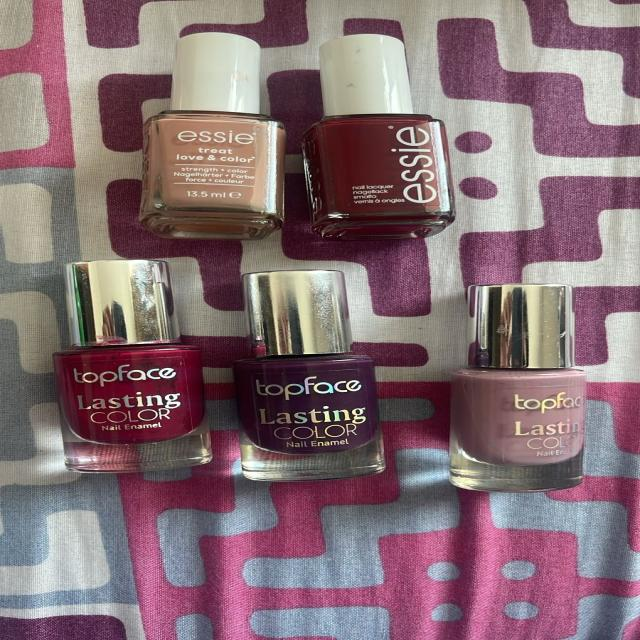nail polish: (428, 268, 640, 504), (279, 15, 491, 240), (218, 261, 413, 499), (33, 241, 231, 471), (122, 14, 297, 258)
